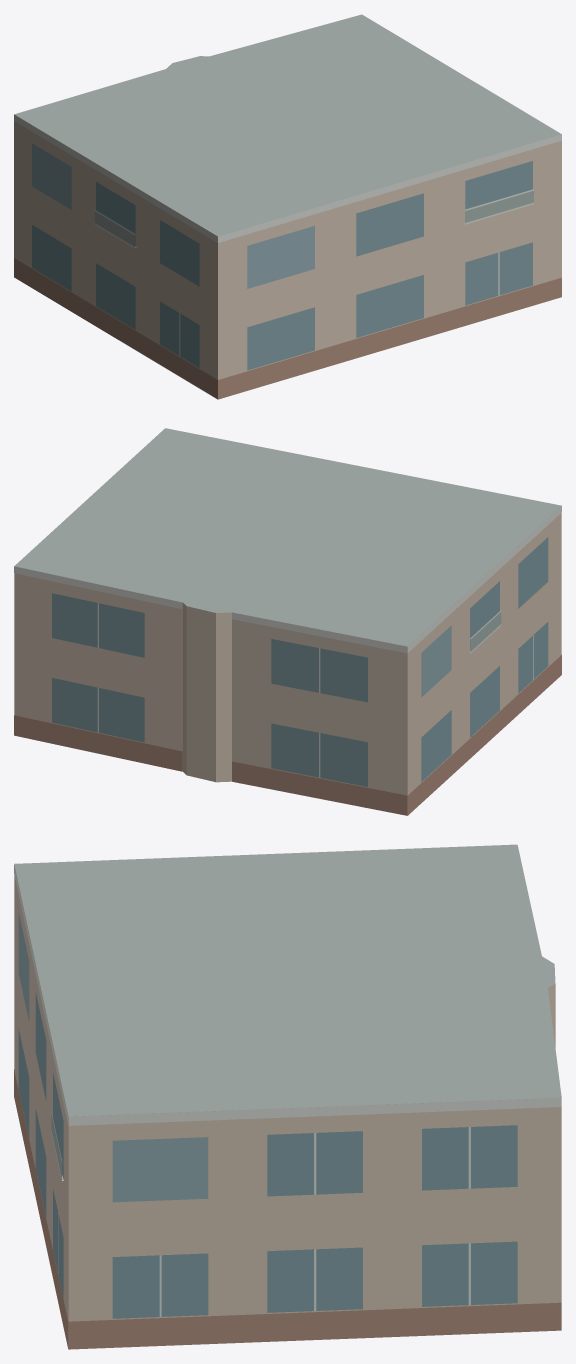
The model's file is survey-upis-32621811.glb.
3 renders of one model, top to bottom at view 1: azimuth 30°, elevation 25°; view 2: azimuth 150°, elevation 25°; view 3: azimuth 270°, elevation 25°, orthographic. The views are drawn at different scales.
Parts seen in each view (by area): view 1: survey-upis-32621811.tmp; view 2: survey-upis-32621811.tmp; view 3: survey-upis-32621811.tmp.
Boxes of the visible parts, box(x1,y1,x2,y2) form: survey-upis-32621811.tmp: box(14, 14, 561, 399); survey-upis-32621811.tmp: box(14, 428, 561, 815); survey-upis-32621811.tmp: box(14, 844, 561, 1349).
Bounding box in the file's own units: 15.31 × 6.1 × 13.02.
